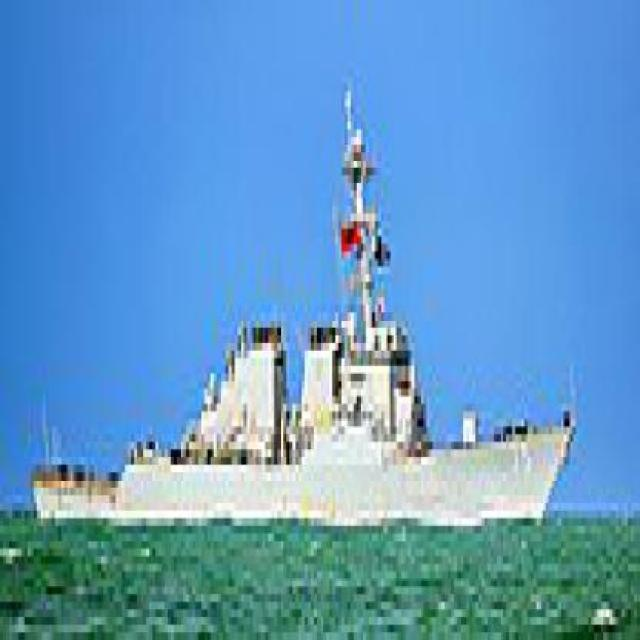warship2: (19, 70, 583, 534)
